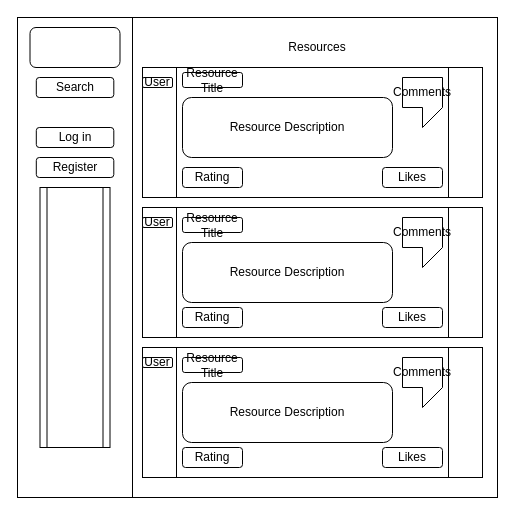
Some shapes in this 515 by 515 pixel diagram are drawn without their labels. The shapes that lost their labels are listed below. From the top down, each one's box as (x1, y1, x2, y2) in pixels, then its label:
(29, 26, 120, 68): Resource-Wall (home button/logo)
(39, 186, 110, 448): Categories
